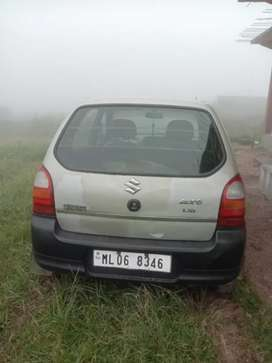ML068346: (93, 249, 171, 271)
